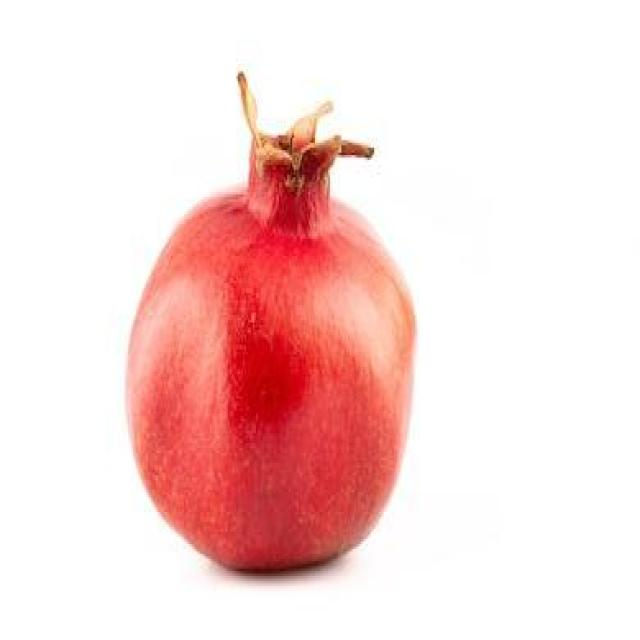Pomegranate: (122, 60, 420, 578)
